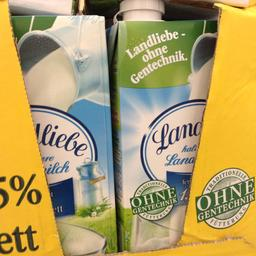milk: (4, 12, 122, 254), (110, 0, 222, 251)
